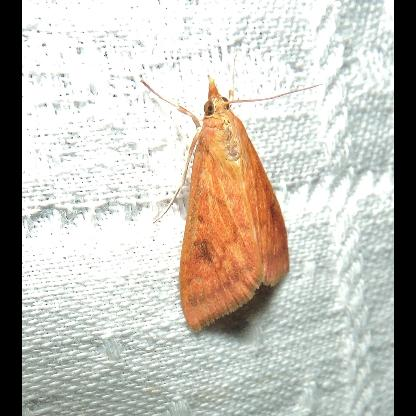Asian Corn Borer Moth: (138, 73, 326, 338)
